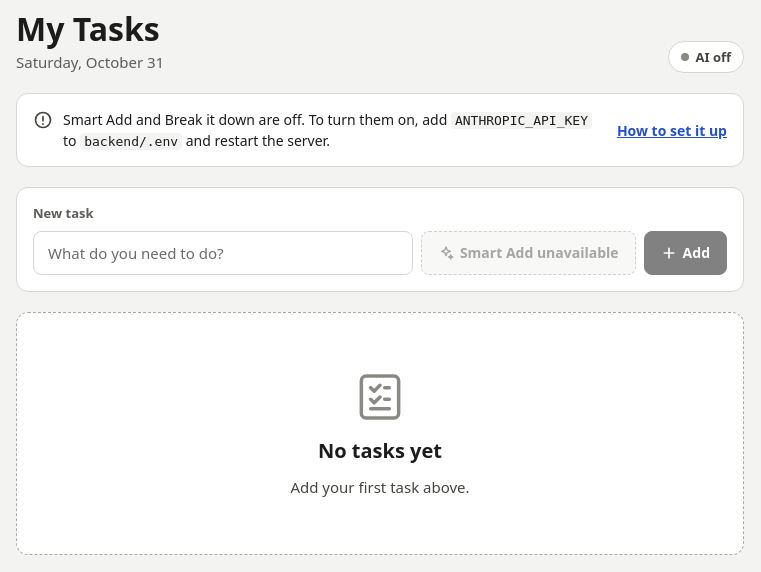
App › task list › adds a task and clears the input
The width and height of the screenshot is (761, 572).
In the field labelled "New task": (223, 253) x1=33 y1=231 x2=413 y2=275, type "Buy groceries"
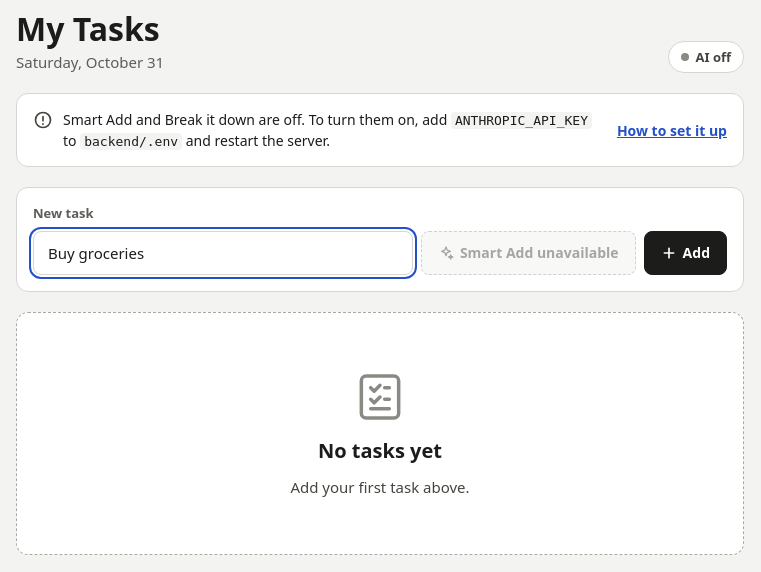
Click the button "Add": (685, 253) x1=644 y1=231 x2=727 y2=275
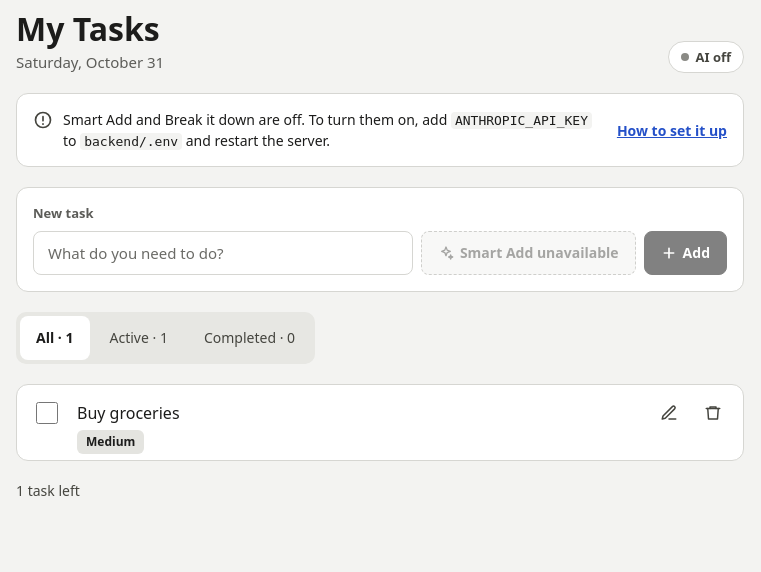
expect the checkbox named "Buy groceries" is shown: met, box x1=36 y1=402 x2=58 y2=424
expect the field labelled "New task" is empty: met, box x1=33 y1=231 x2=413 y2=275
